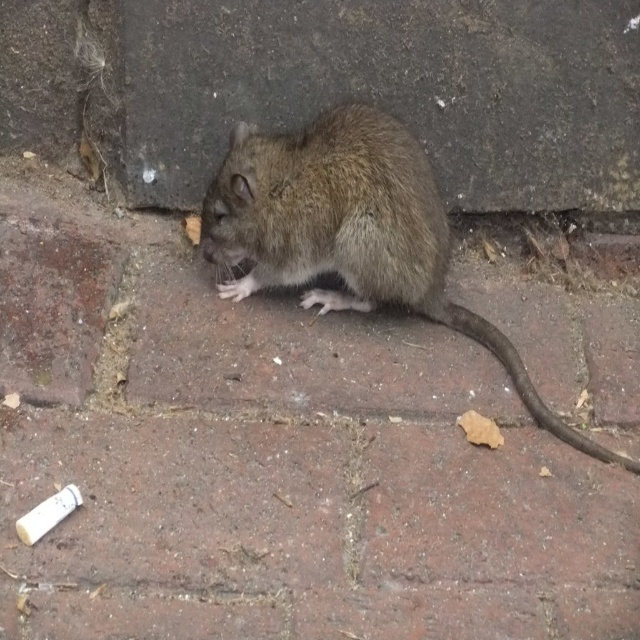Mouse: (198, 105, 603, 444)
